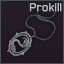Chain with Prokill medallion: (0, 0, 64, 64)
